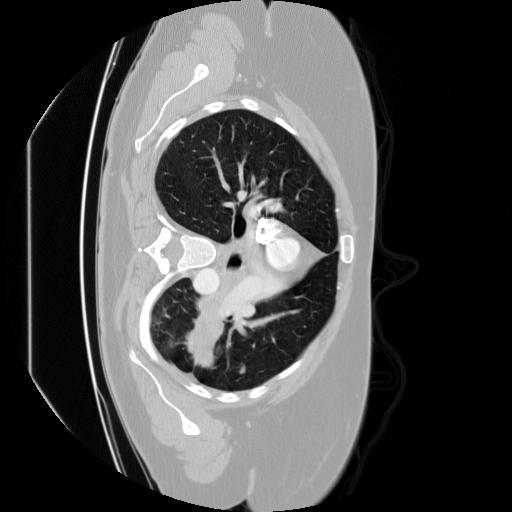nodule: (238, 364, 250, 376)
